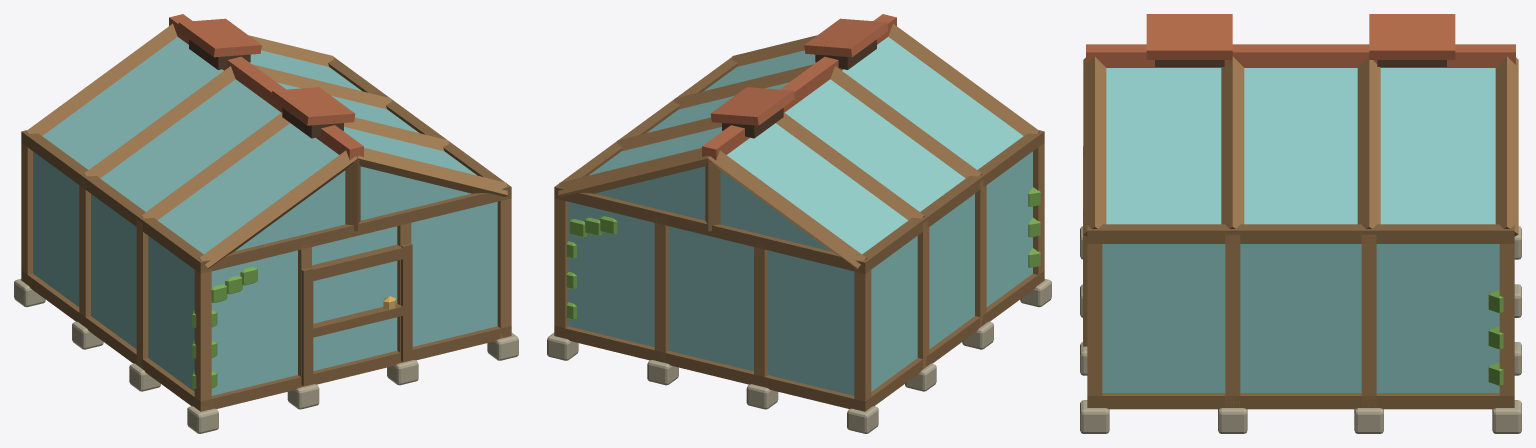
The model's file is greenhouse.glb.
3 renders of one model, left to right at view 1: azimuth 30°, elevation 25°; view 2: azimuth 150°, elevation 25°; view 3: azimuth 270°, elevation 25°, orthographic. The views are drawn at different scales.
Visible parts, largest first — view 1: glass_end.002, glass_end, glass_roof, glass_roof.001, glass_roof.002, glass_end.001, glass_side.002, glass_side, glass_side.001, Timber_end_rail.001, Timber_end_rail, Timber_side_rail.001 (+39 smaller); view 2: glass_end.003, glass_end.004, glass_end.005, glass_roof.002, glass_roof.001, glass_roof, glass_side.002, glass_side.001, glass_side, Timber_end_rail.002, Timber_end_rail.003, Timber_side_rail.001 (+35 smaller); view 3: glass_side.003, glass_roof.003, glass_roof.005, glass_side.004, glass_roof.004, glass_side.005, Timber_side_rail.003, Timber_side_rail.002, Copper_ridge, Gable_rafter.001, Gable_rafter.003, Copper_vent_hood (+14 smaller).
Boxes of the visible parts, left/top/right/bottom form: glass_end.002: left=411, top=201, right=497, bottom=346; glass_end: left=211, top=250, right=297, bottom=395; glass_roof: left=157, top=123, right=338, bottom=254; glass_roof.001: left=100, top=79, right=281, bottom=211; glass_roof.002: left=42, top=37, right=223, bottom=169; glass_end.001: left=312, top=226, right=397, bottom=370; glass_side.002: left=33, top=151, right=79, bottom=306; glass_side: left=148, top=236, right=194, bottom=391; glass_side.001: left=91, top=194, right=136, bottom=348; Timber_end_rail.001: left=194, top=183, right=510, bottom=273; Timber_end_rail: left=194, top=326, right=500, bottom=411; Timber_side_rail.001: left=27, top=133, right=211, bottom=273; glass_end.003: left=768, top=250, right=854, bottom=395; glass_end.004: left=668, top=226, right=753, bottom=371; glass_end.005: left=568, top=201, right=654, bottom=347; glass_roof.002: left=727, top=123, right=908, bottom=254; glass_roof.001: left=784, top=79, right=965, bottom=211; glass_roof: left=842, top=37, right=1023, bottom=169; glass_side.002: left=871, top=236, right=917, bottom=391; glass_side.001: left=929, top=194, right=974, bottom=348; glass_side: left=986, top=151, right=1032, bottom=306; Timber_end_rail.002: left=565, top=326, right=871, bottom=411; Timber_end_rail.003: left=555, top=183, right=871, bottom=273; Timber_side_rail.001: left=855, top=133, right=1039, bottom=273; glass_side.003: left=1102, top=244, right=1225, bottom=392; glass_roof.003: left=1106, top=68, right=1221, bottom=224; glass_roof.005: left=1380, top=68, right=1495, bottom=224; glass_side.004: left=1240, top=244, right=1361, bottom=392; glass_roof.004: left=1244, top=68, right=1357, bottom=224; glass_side.005: left=1376, top=244, right=1499, bottom=392; Timber_side_rail.003: left=1087, top=224, right=1514, bottom=243; Timber_side_rail.002: left=1088, top=393, right=1514, bottom=409; Copper_ridge: left=1086, top=44, right=1515, bottom=67; Gable_rafter.001: left=1083, top=56, right=1106, bottom=236; Gable_rafter.003: left=1495, top=56, right=1518, bottom=236; Copper_vent_hood: left=1146, top=14, right=1232, bottom=59.
Bounding box in the file's own units: 2.98 × 2.34 × 2.98.
